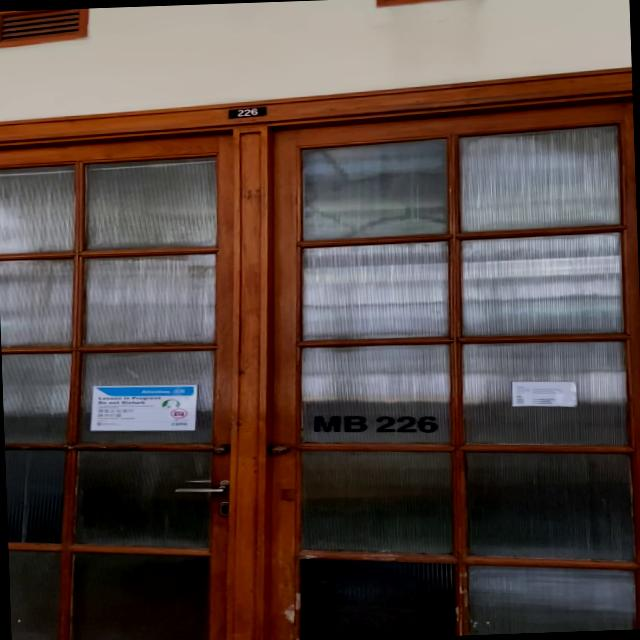room226: (226, 104, 268, 120)
room226Window: (308, 408, 442, 439)
